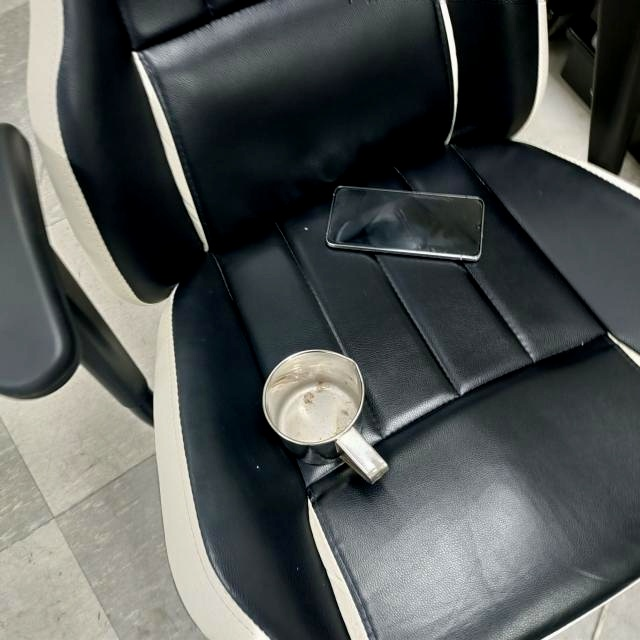cup: (261, 348, 388, 490)
phone: (326, 185, 486, 262)
